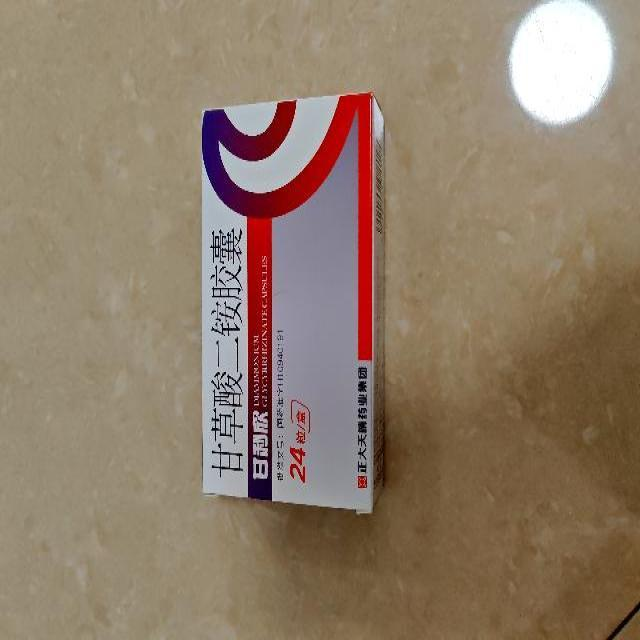box: (198, 94, 386, 517)
